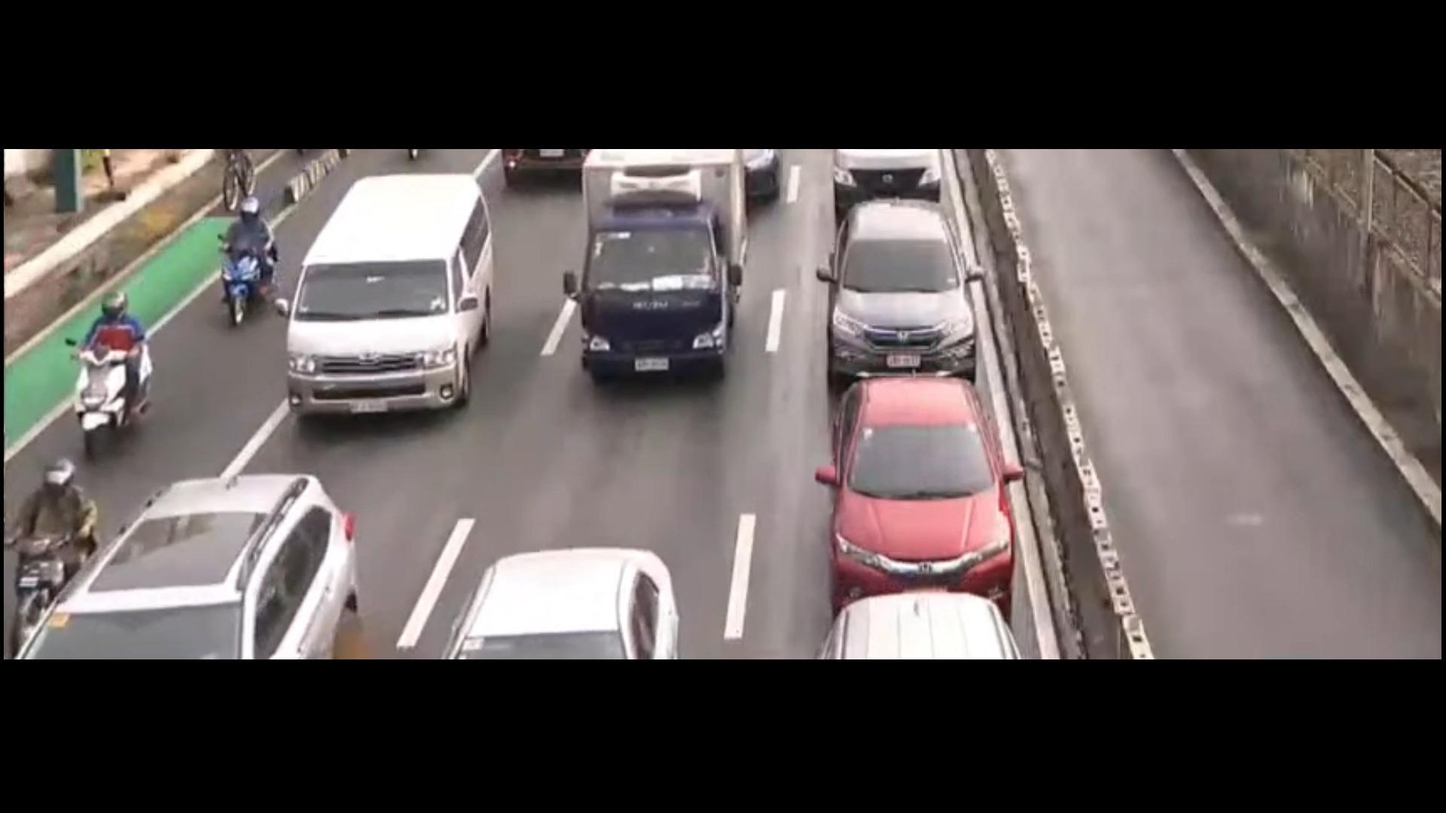Bicycle: (195, 149, 275, 214)
Motorcycle: (0, 450, 132, 621), (51, 265, 156, 443), (195, 185, 277, 339)
SUV: (7, 456, 381, 658), (787, 362, 1046, 601), (814, 200, 989, 362)
Sedan: (409, 524, 705, 658)
Truck: (528, 132, 774, 395)
Van: (247, 157, 504, 438)
